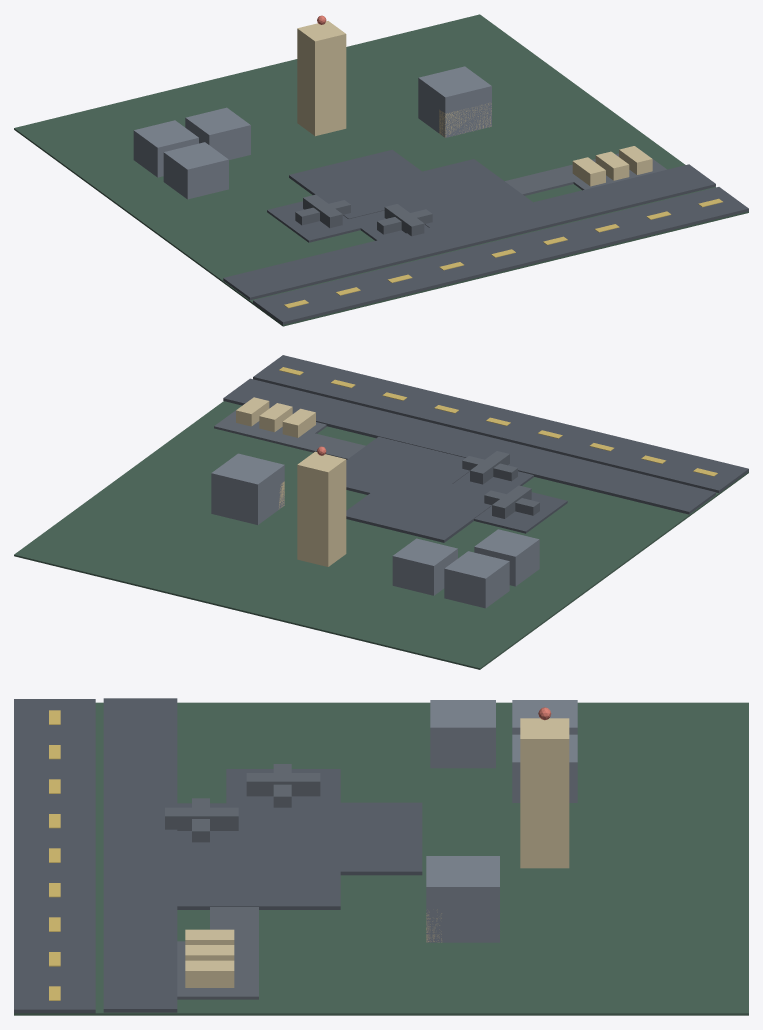
File: stage_12.glb
3 renders of one model, top to bottom at view 1: azimuth 30°, elevation 25°; view 2: azimuth 150°, elevation 25°; view 3: azimuth 270°, elevation 25°, orthographic. The views are drawn at different scales.
Visible parts, largest first — view 1: geometry_0; view 2: geometry_0; view 3: geometry_0.
Part boxes in pixels (x1,y1,x2,y2): geometry_0: (14, 14, 748, 326); geometry_0: (14, 355, 748, 669); geometry_0: (14, 698, 748, 1015).
Bounding box in the file's own units: 9 × 2.06 × 9.
